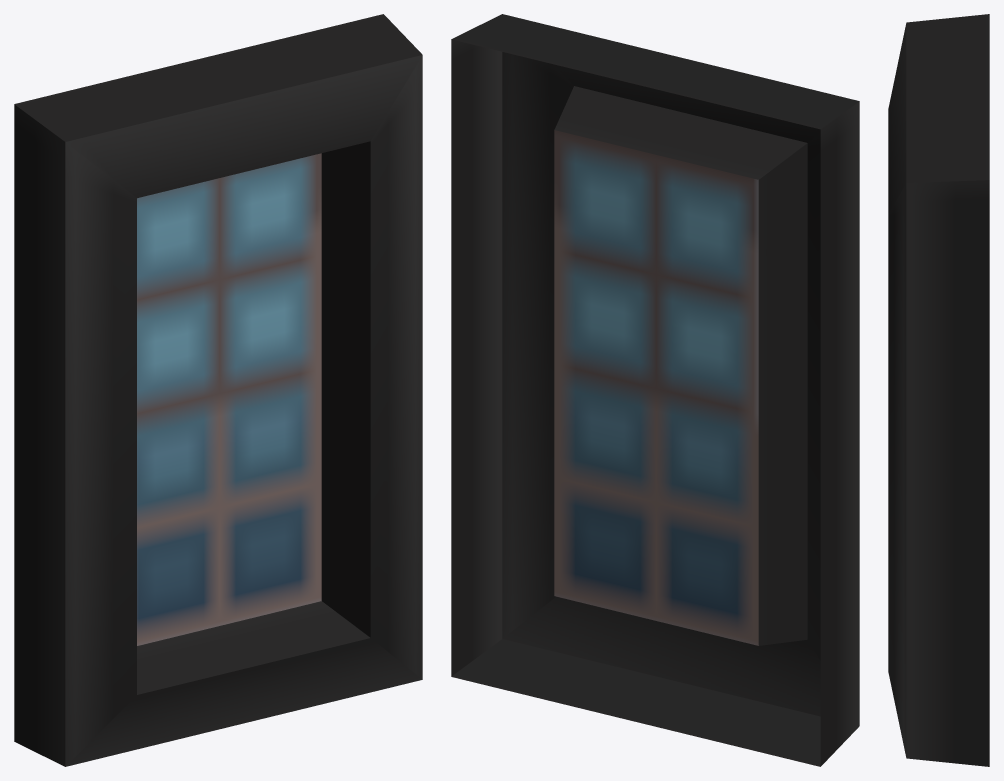
Rendered from window_v7b_001.fbx.
3 views of the same model, side by side, from view 1: azimuth 30°, elevation 25°; view 2: azimuth 150°, elevation 25°; view 3: azimuth 270°, elevation 25° (orthographic). The views are drawn at different scales.
Parts seen in each view (by area): view 1: window_v7b_001; view 2: window_v7b_001; view 3: window_v7b_001.
Boxes of the visible parts, left/top/right/bottom form: window_v7b_001: left=14, top=14, right=422, bottom=766; window_v7b_001: left=451, top=14, right=859, bottom=766; window_v7b_001: left=888, top=14, right=989, bottom=766.
Bounding box in the file's own units: 86.45 × 143 × 22.31.
